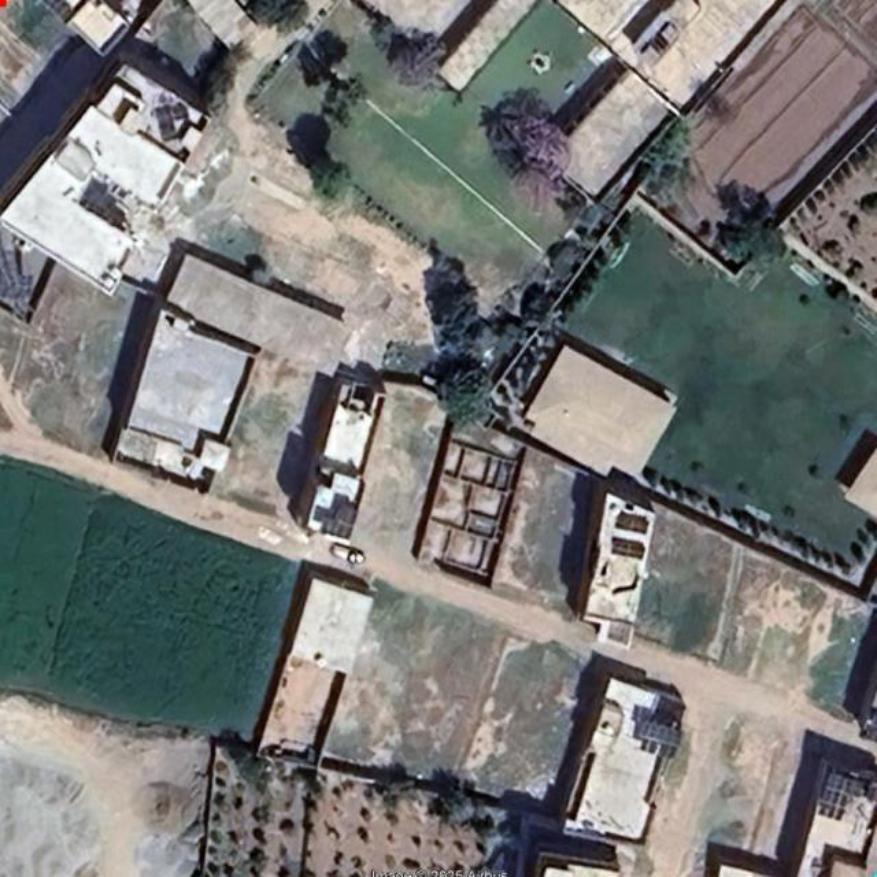Solarpanel: (820, 774, 854, 821), (637, 718, 683, 746), (612, 541, 647, 560), (615, 514, 649, 533)
